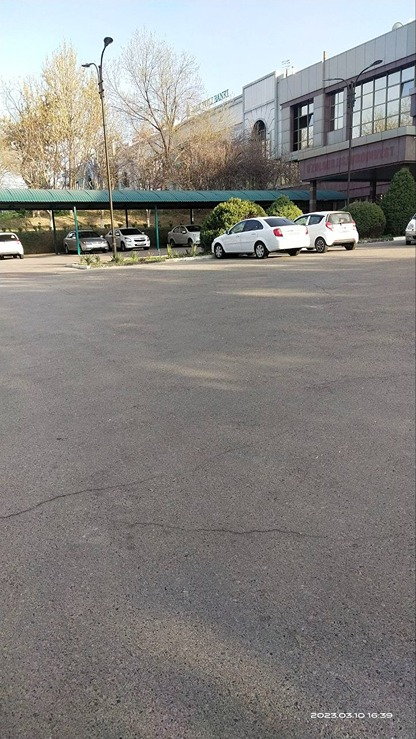car: (207, 218, 296, 258), (311, 204, 360, 243), (59, 223, 104, 258), (162, 215, 200, 254), (108, 225, 149, 251), (0, 230, 27, 268)
tree: (106, 13, 208, 175), (23, 36, 105, 178), (383, 161, 416, 225)
